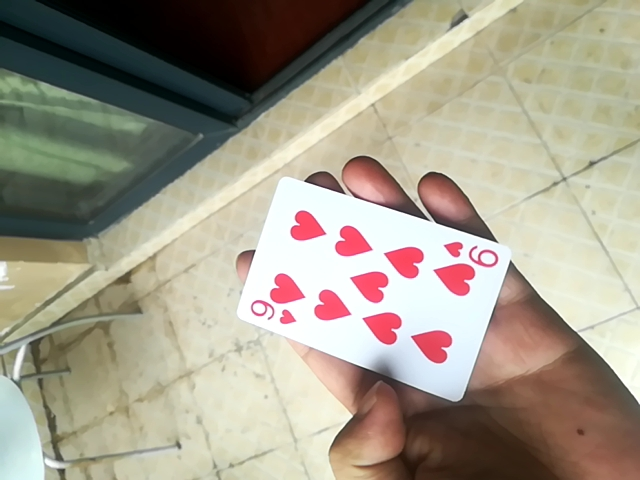hx 9: (236, 172, 508, 402)
